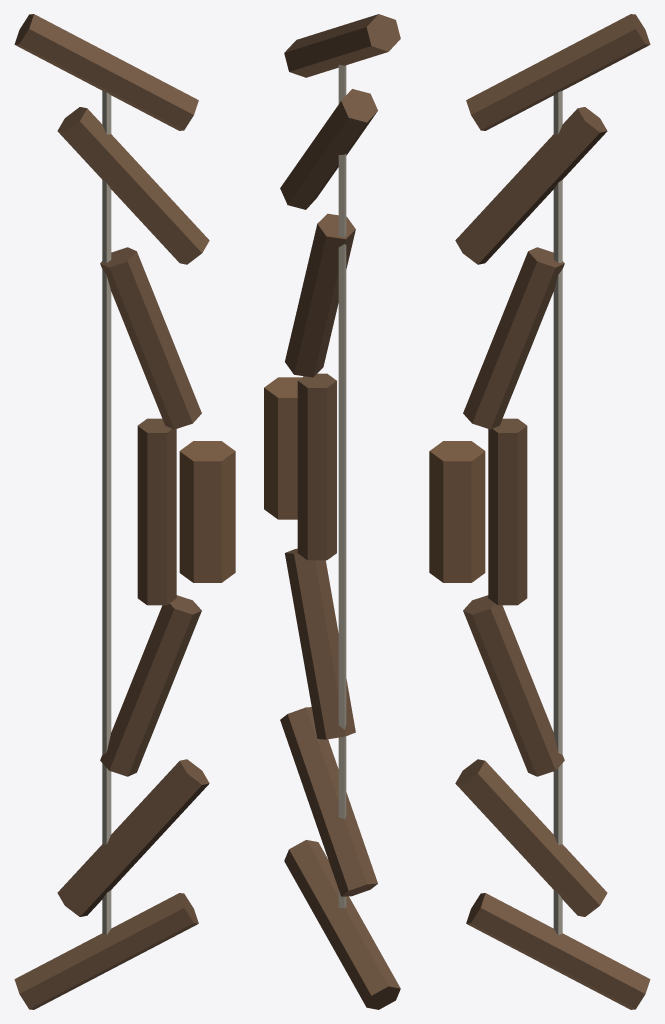
Rendered from a_bow.glb.
The picture shows the model from 3 angles, left to right: view 1: azimuth 90°, elevation 25°; view 2: azimuth 210°, elevation 25°; view 3: azimuth 270°, elevation 25°; orthographic projection.
Visible parts, largest first — view 1: a_bow; view 2: a_bow; view 3: a_bow.
Boxes of the visible parts, bbox=[...] form: a_bow: bbox=[14, 14, 235, 1009]; a_bow: bbox=[264, 14, 400, 1009]; a_bow: bbox=[429, 14, 650, 1009].
Bounding box in the file's own units: 0.0433 × 0.9813 × 0.1974.
